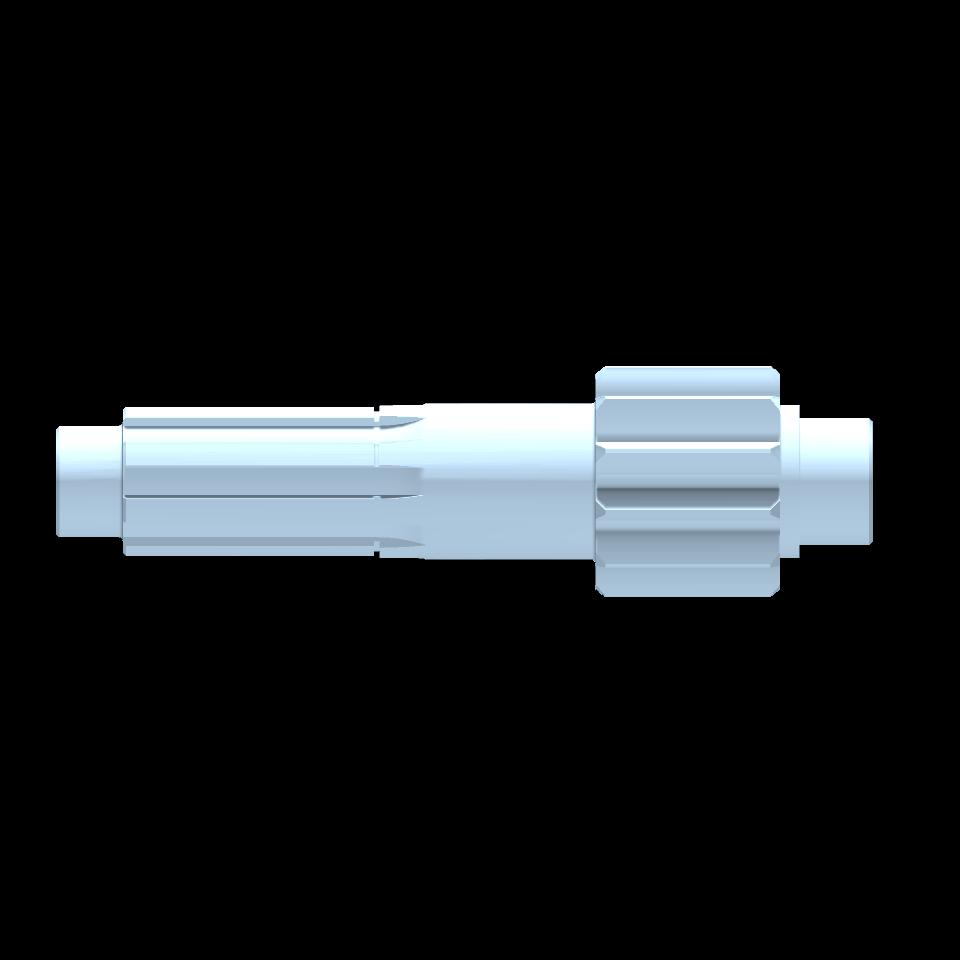Straight: (605, 365, 775, 597), (127, 407, 375, 557)
